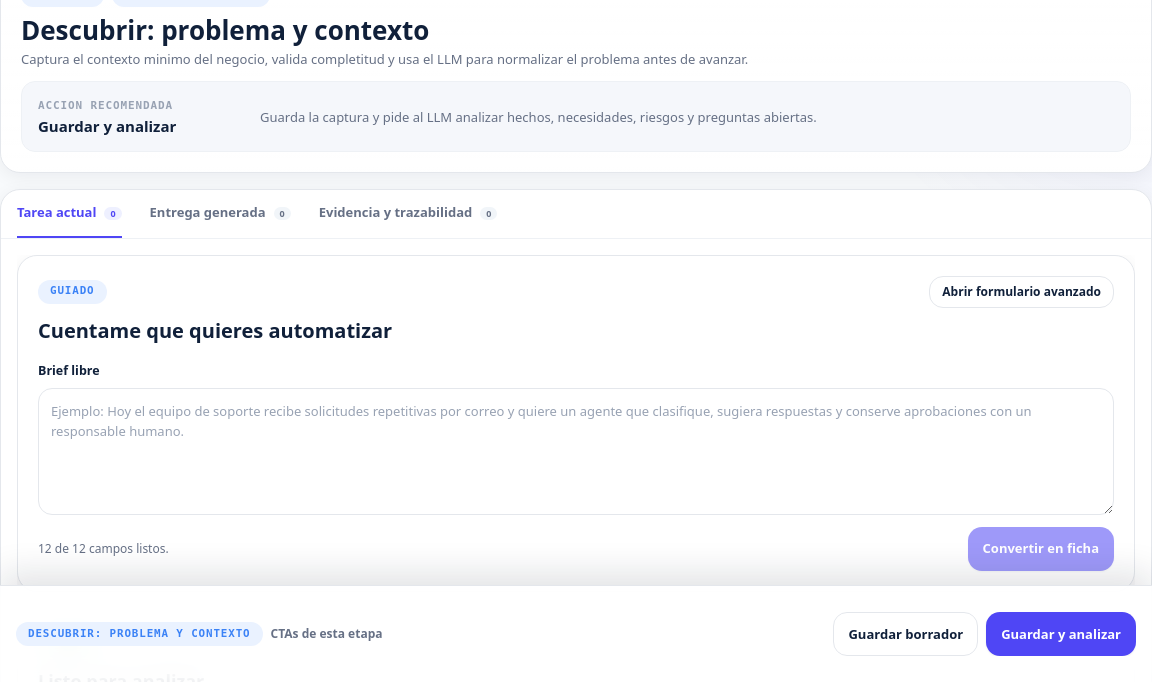
Test case: DiscoverStageView UXA7 › can switch from guided capture to the advanced form for bulk editing
Click the button "Abrir formulario avanzado". click: coordinates (1022, 292)
box: [929,276,1114,308]
(page scrolled)
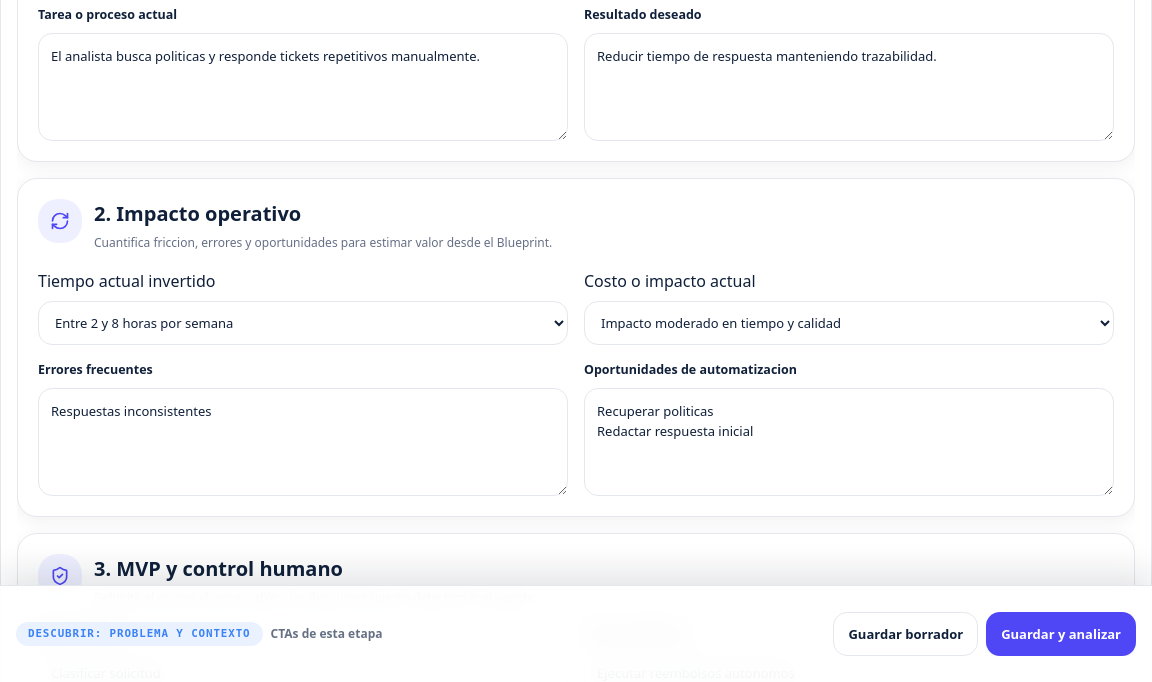
Check: the heading "2. Impacto operativo" is shown, box [94,200,301,227]
Check: the dropdown labelled "Tiempo actual invertido" is shown, box [38,301,568,345]
